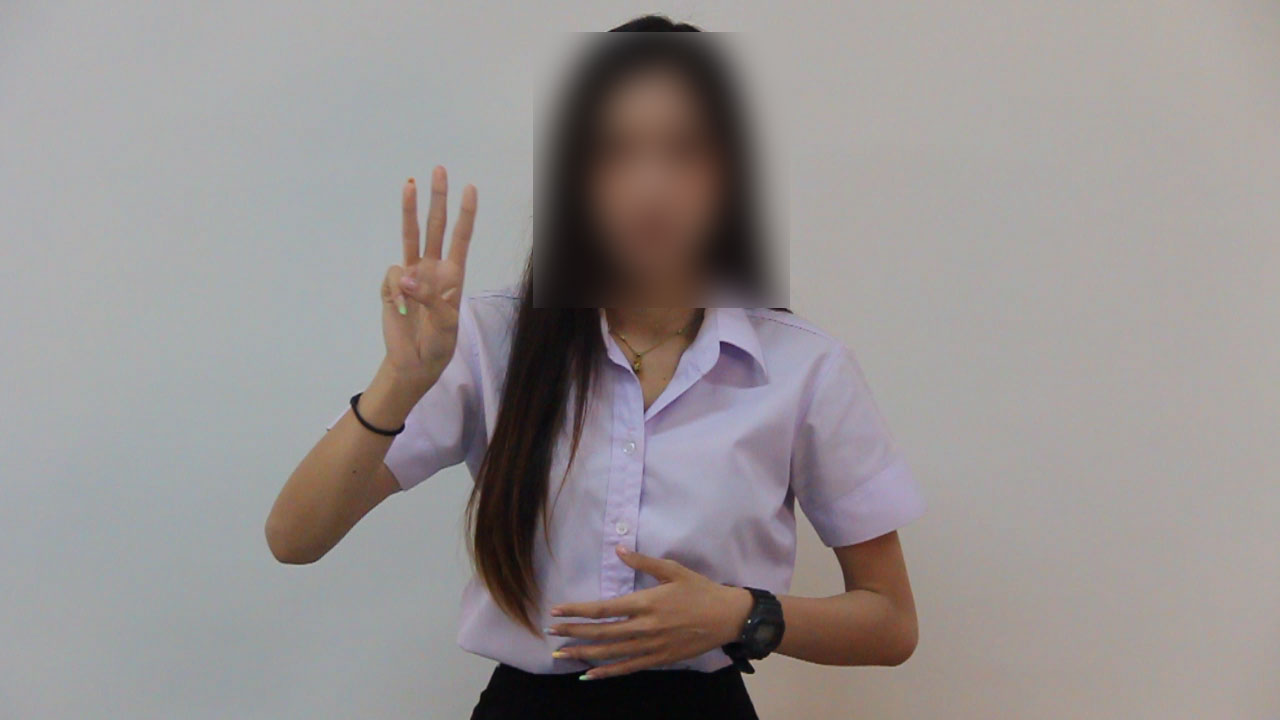wor: (368, 157, 489, 380)
